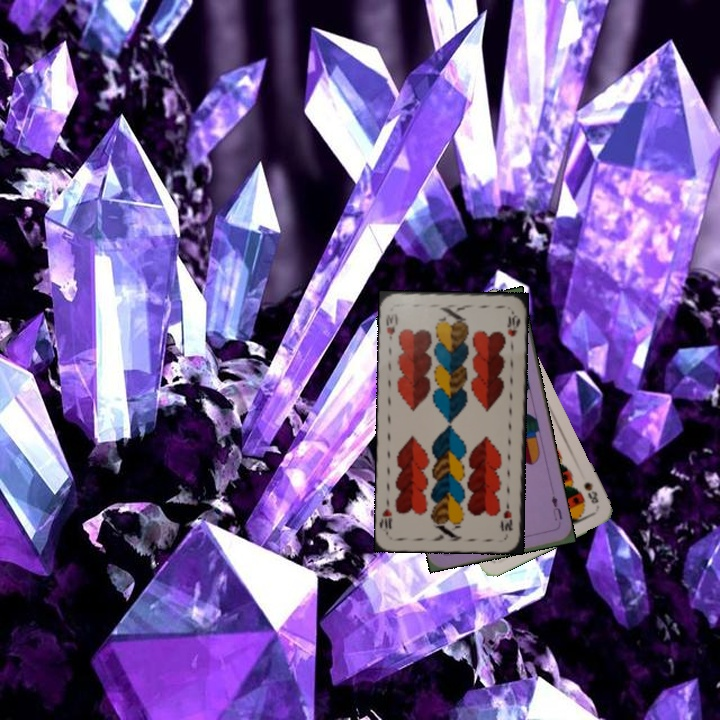EU: (547, 491, 565, 523)
H10: (382, 309, 400, 343), (499, 499, 515, 534)
S8: (580, 478, 601, 507)
